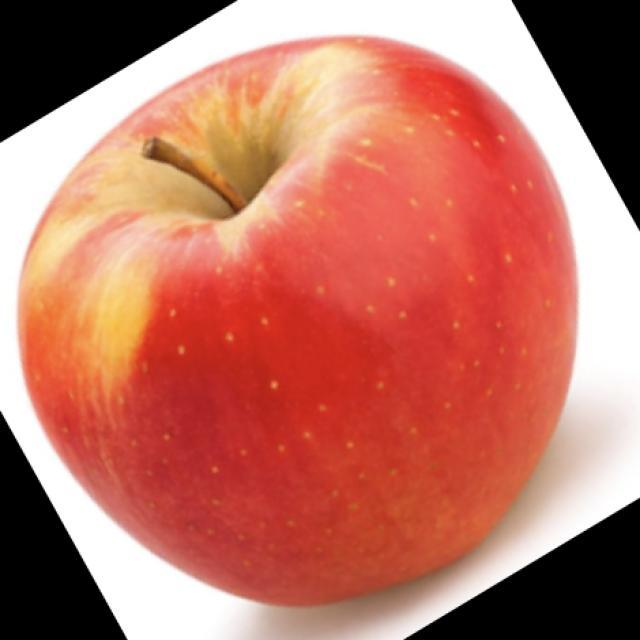Fresh Apple: (35, 47, 602, 618)
